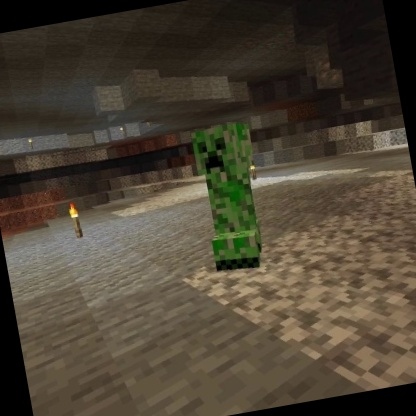creeper: (185, 118, 277, 278)
